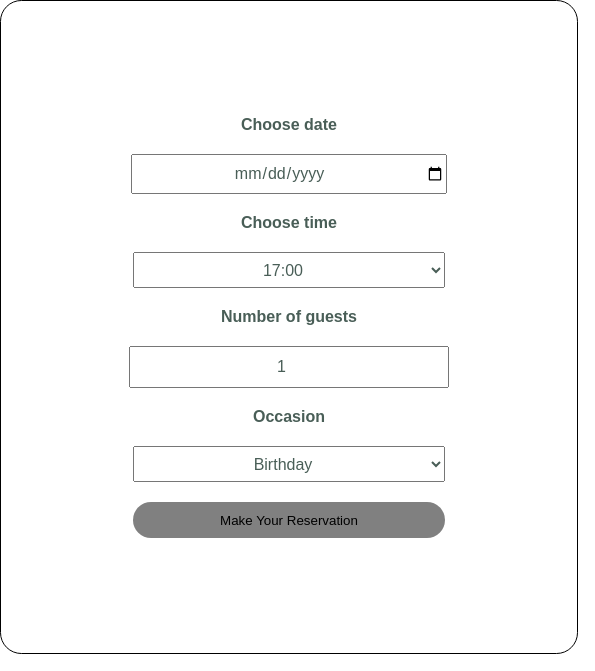
Test: BookingForm › prevents the submission of invalid occasion
The width and height of the screenshot is (595, 671).
Type "2024-04-01" into the date field labelled "Choose date". click: (289, 174)
box: [131,154,447,194]
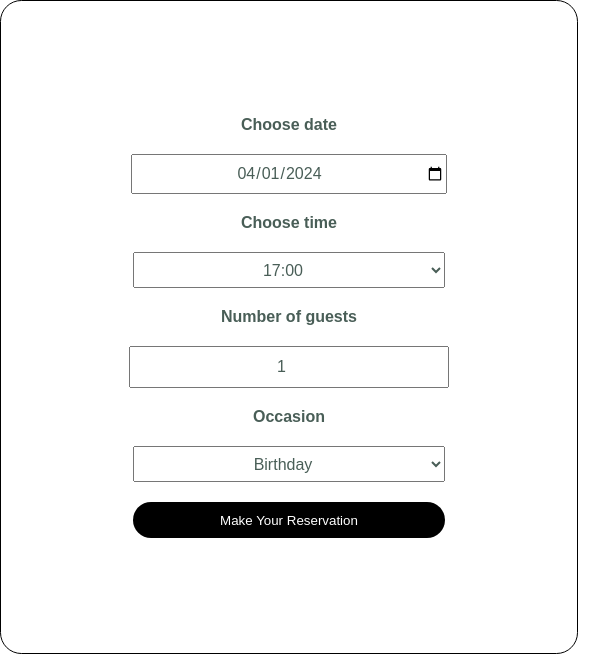
Select "17:00" in the dropdown labelled "Choose time". click: (289, 270)
box: [134,252,444,288]
Type "4" into the number field labelled "Number of guests". click: (289, 367)
box: [130,346,448,388]
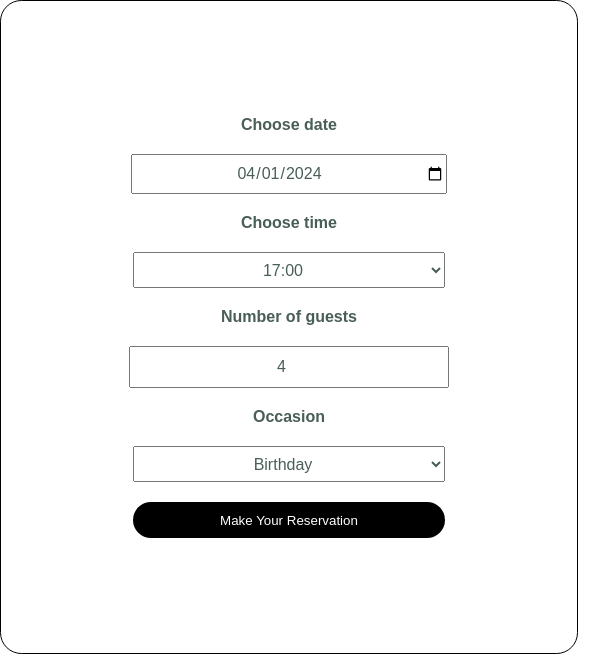
Select "Party" in the dropdown labelled "Occasion". click: (289, 464)
box: [134,446,444,482]
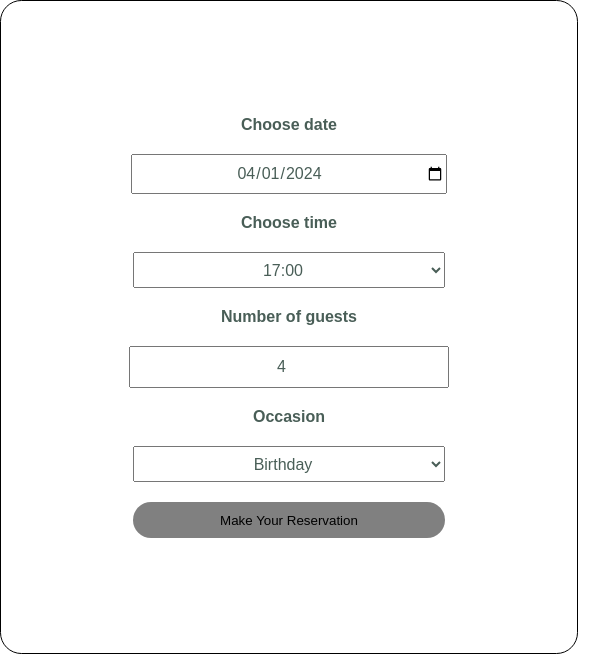
Now the button "Make Your Reservation" is disabled, box [134,502,444,538]
